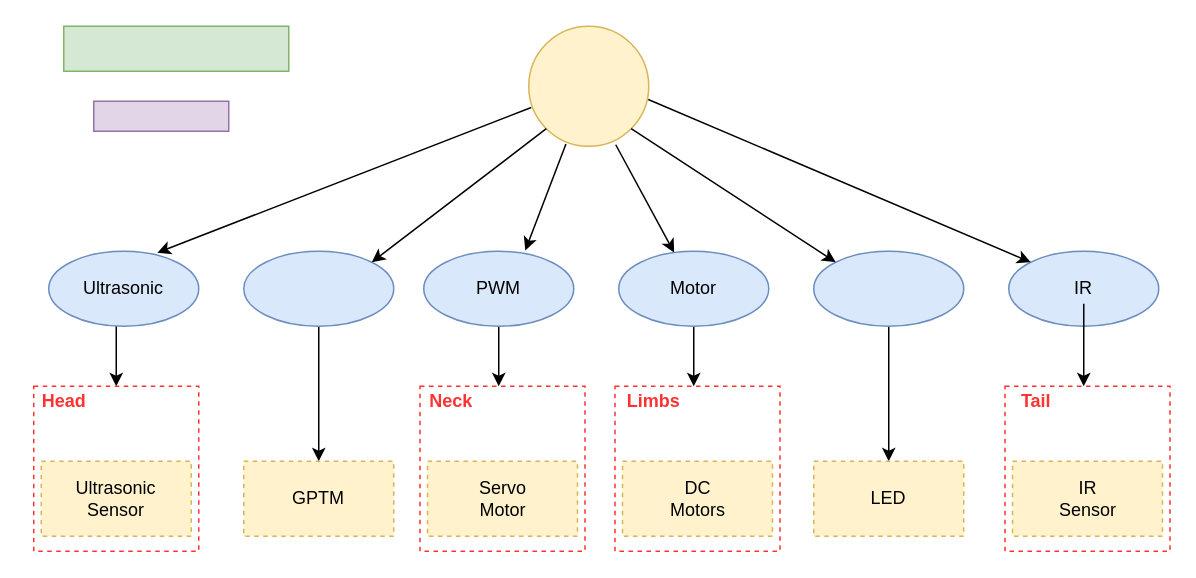
This 1196x578 diagram has some shape labels left out. Here are the shapes that lost their labels. From the top down, the centre of each, then its label:
At pixel 175 48: "Call Graph Using ARM CORTEX M4".
At pixel 588 85: "MCU".
At pixel 160 115: "Robot Design".
At pixel 318 288: "Timer".
At pixel 888 288: "Light".
